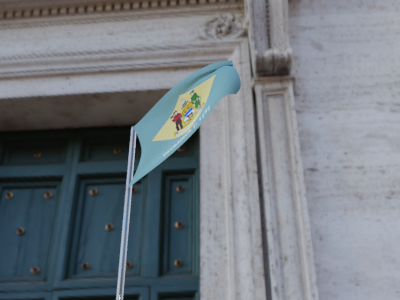Delaware flag: (127, 60, 240, 185)
